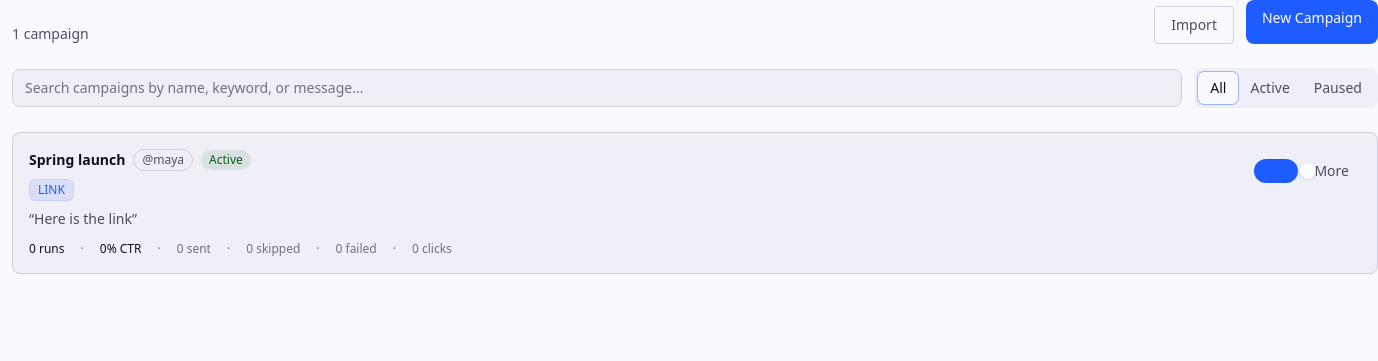
Test: campaign action failures › keeps an active campaign active when pausing fails
Click the button named "Pause Spring launch". click: click(1276, 171)
box: [1254,149,1298,193]
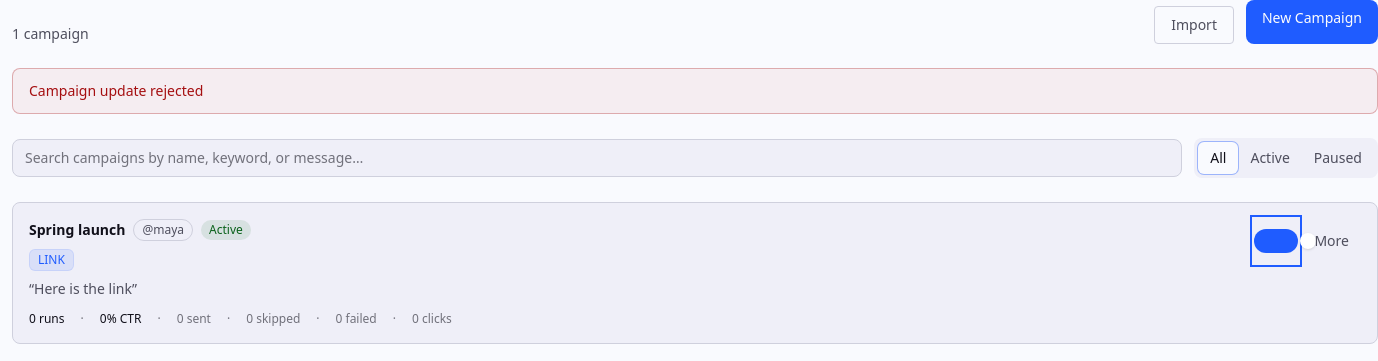
expect the text "Active" is shown: met, box [201,220,251,240]
expect the message reads "Campaign update rejected": met, box [29,81,203,100]
